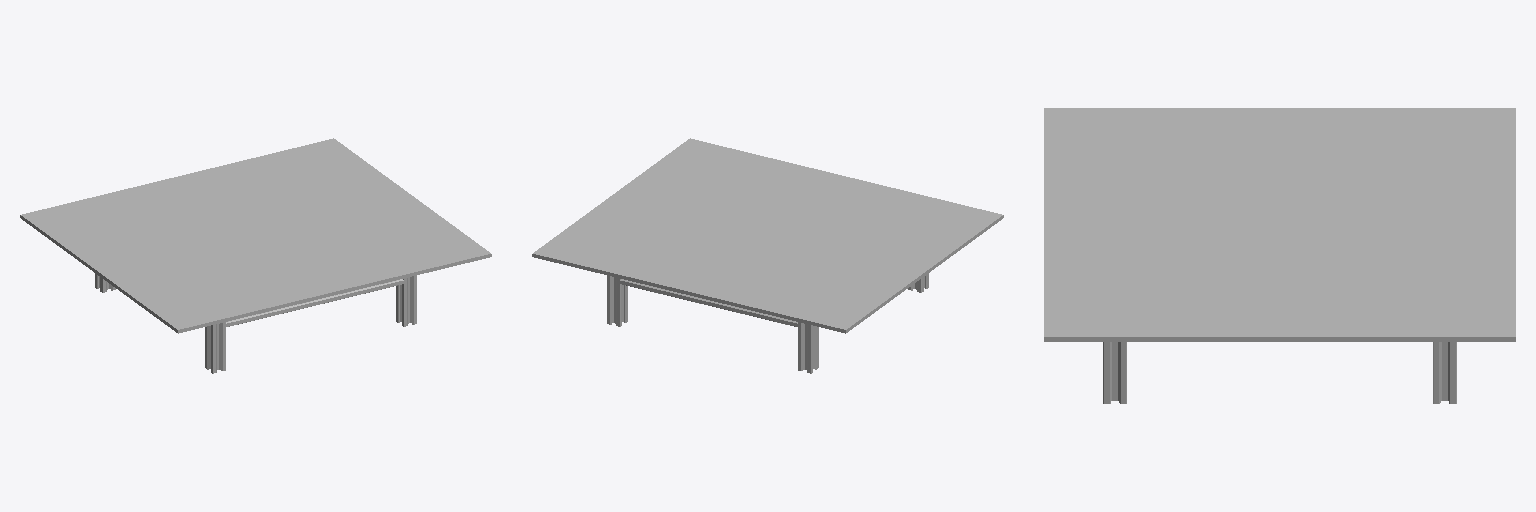
URDF robot description (findchessbot):
<?xml version="1.0" encoding="utf-8"?>
<!-- This URDF was automatically created by SolidWorks to URDF Exporter! Originally created by [author] ([email redacted]) 
     Commit Version: 1.6.0-1-g15f4949  Build Version: 1.6.7594.29634
     For more information, please see http://wiki.ros.org/sw_urdf_exporter -->
<robot
  name="findchessbot">
  <link
    name="base_link">
    <visual>
      <origin
        xyz="0 0 0"
        rpy="0 0 0" />
      <geometry>
        <mesh
          filename="package://findchessbot/base_link.STL" />
      </geometry>
      <material
        name="">
        <color
          rgba="0.752941176470588 0.752941176470588 0.752941176470588 1" />
      </material>
    </visual>
    <collision>
      <origin
        xyz="0 0 0"
        rpy="0 0 0" />
      <geometry>
        <mesh
          filename="package://findchessbot/base_link.STL" />
      </geometry>
    </collision>
  </link>
  
  <link
    name="link_1">
    <inertial>
      <origin
        xyz="-0.0431929949276883 -0.0167696838086873 0.215913559427298"
        rpy="0 0 0" />
      <mass
        value="4.57038820087514" />
      <inertia
        ixx="0.0122265464299465"
        ixy="4.21147542197394E-07"
        ixz="1.99180526350802E-05"
        iyy="0.0133372298042472"
        iyz="2.34384395342257E-06"
        izz="0.0085867023997394" />
    </inertial>
    <visual>
      <origin
        xyz="0 0 0"
        rpy="0 0 0" />
      <geometry>
        <mesh
          filename="package://findchessbot/link_1.STL" />
      </geometry>
      <material
        name="">
        <color
          rgba="0.752941176470588 0.752941176470588 0.752941176470588 1" />
      </material>
    </visual>
    <collision>
      <origin
        xyz="0 0 0"
        rpy="0 0 0" />
      <geometry>
        <mesh
          filename="package://findchessbot/link_1.STL" />
      </geometry>
    </collision>
  </link>


  <joint
    name="joint_1"
    type="revolute">
    <origin
      xyz="0 0 0.101"
      rpy="0 0 0" />
    <parent
      link="base_link" />
    <child
      link="link_1" />
    <axis
      xyz="0 0 1" />
      <limit lower="-1.57" upper="1.57" effort="1.6" velocity="10" />
  </joint>

  <link
    name="link_2">
    <inertial>
      <origin
        xyz="0.169588884134961 0.000287079048425898 0.00493814032653461"
        rpy="0 0 0" />
      <mass
        value="1.68976202819323" />
      <inertia
        ixx="0.000578868076247387"
        ixy="-1.82793365282542E-06"
        ixz="3.45945381408847E-07"
        iyy="0.0094659655681031"
        iyz="6.38868613068616E-07"
        izz="0.00977868856241812" />
    </inertial>
    <visual>
      <origin
        xyz="0 0 0"
        rpy="0 0 0" />
      <geometry>
        <mesh
          filename="package://findchessbot/link_2.STL" />
      </geometry>
      <material
        name="">
        <color
          rgba="0.752941176470588 0.752941176470588 0.752941176470588 1" />
      </material>
    </visual>
    <collision>
      <origin
        xyz="0 0 0"
        rpy="0 0 0" />
      <geometry>
        <mesh
          filename="package://findchessbot/link_2.STL" />
      </geometry>
    </collision>
  </link>

  <joint
    name="joint_2"
    type="prismatic">
    <origin
      xyz="0.013249999999999 0 0.289"
      rpy="0 0 0" />
    <parent
      link="link_1" />
    <child
      link="link_2" />
    <axis
      xyz="0 0 1" />
      <limit lower="-0.1" upper="0" effort="1.6" velocity="10" />
  </joint>
  <link
    name="link_3">
    <inertial>
      <origin
        xyz="0.15471664673548 -5.19428621775786E-06 0.0034905551408036"
        rpy="0 0 0" />
      <mass
        value="0.802329350003151" />
      <inertia
        ixx="0.000293485369809973"
        ixy="-6.26782699018864E-09"
        ixz="1.27148249238739E-07"
        iyy="0.00409323307841445"
        iyz="-4.78551932884101E-08"
        izz="0.00412215164530587" />
    </inertial>
    <visual>
      <origin
        xyz="0 0 0"
        rpy="0 0 0" />
      <geometry>
        <mesh
          filename="package://findchessbot/link_3.STL" />
      </geometry>
      <material
        name="">
        <color
          rgba="0.752941176470588 0.752941176470588 0.752941176470588 1" />
      </material>
    </visual>
    <collision>
      <origin
        xyz="0 0 0"
        rpy="0 0 0" />
      <geometry>
        <mesh
          filename="package://findchessbot/link_3.STL" />
      </geometry>
    </collision>
  </link>
  <joint
    name="joint_3"
    type="revolute">
    <origin
      xyz="0.37 0 0.0649999999999992"
      rpy="0 0 0" />
    <parent
      link="link_2" />
    <child
      link="link_3" />
    <axis
      xyz="0 0 1" />
      <limit lower="-3.14" upper="3.14" effort="0" velocity="10" />
  </joint>
  <link
    name="link_4">
    <inertial>
      <origin
        xyz="7.69925345344147E-05 2.22729360906393E-05 -0.0787289861832771"
        rpy="0 0 0" />
      <mass
        value="0.427295816857813" />
      <inertia
        ixx="0.000121089035690954"
        ixy="9.95625908929604E-08"
        ixz="-3.89978466575397E-07"
        iyy="0.000119966189995005"
        iyz="-7.03773299579463E-09"
        izz="0.000127824456429408" />
    </inertial>
    <visual>
      <origin
        xyz="0 0 0"
        rpy="0 0 0" />
      <geometry>
        <mesh
          filename="package://findchessbot/link_4.STL" />
      </geometry>
      <material
        name="">
        <color
          rgba="0.752941176470588 0.752941176470588 0.752941176470588 1" />
      </material>
    </visual>
    <collision>
      <origin
        xyz="0 0 0"
        rpy="0 0 0" />
      <geometry>
        <mesh
          filename="package://findchessbot/link_4.STL" />
      </geometry>
    </collision>
  </link>
  <joint
    name="joint_4"
    type="revolute">
    <origin
      xyz="0.315000000000002 0 0.000500000000001111"
      rpy="0 0 0" />
    <parent
      link="link_3" />
    <child
      link="link_4" />
    <axis
      xyz="0 0 1" />
      <limit lower="-3.14" upper="3.14" effort="0" velocity="10" />
  </joint>
  <link
    name="chess_board">
    <inertial>
      <origin
        xyz="1.1102E-16 -5.5511E-17 -0.01591"
        rpy="0 0 0" />
      <mass
        value="2.2955" />
      <inertia
        ixx="0.017747"
        ixy="2.9956E-19"
        ixz="-3.1844E-19"
        iyy="0.021703"
        iyz="2.6072E-18"
        izz="0.039234" />
    </inertial>
    <visual>
      <origin
        xyz="0 0 0"
        rpy="0 0 0" />
      <geometry>
        <mesh
          filename="package://findchessbot/chessboard.STL" />
      </geometry>
      <material
        name="">
        <color
          rgba="0.75294 0.75294 0.75294 1" />
      </material>
    </visual>
    <collision>
      <origin
        xyz="0 0 0"
        rpy="0 0 0" />
      <geometry>
        <mesh
          filename="package://findchessbot/chessboard.STL" />
      </geometry>
    </collision>
  </link>
  <joint
    name="joint_chess"
    type="revolute">
    <origin
      xyz="0.42744 -0.00059371 0.099999"
      rpy="0 0 0" />
    <parent
      link="base_link" />
    <child
      link="chess_board" />
    <axis
      xyz="0 0 1" />
      <limit lower="-6.28" upper="6.28" effort="0" velocity="10" />
  </joint>
</robot>

--- Facts derived from the render (not from the file) ---
3 views of the same robot in one strip: view 1: azimuth 30°, elevation 25°; view 2: azimuth 150°, elevation 25°; view 3: azimuth 270°, elevation 25° (orthographic).
Robot: findchessbot — 6 links, 5 joints (4 revolute, 1 prismatic); root link base_link; default pose: all joints at 0.
Visible links, largest first — view 1: chess_board; view 2: chess_board; view 3: chess_board.
Link boxes in pixels (box(x1,y1,x2,y2)): chess_board: box(20, 138, 491, 373); chess_board: box(532, 138, 1003, 373); chess_board: box(1044, 108, 1515, 403).
Size in the robot's own frame: 0.46 by 0.4 by 0.1 metres.
1 mesh visuals loaded from 6 distinct referenced files (1 binary STL); not drawn: 5 (reference not matched to a file when rendering).